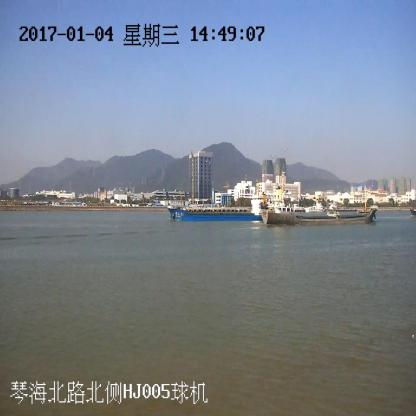Bulk Carrier: (260, 178, 376, 226), (168, 199, 261, 222)
